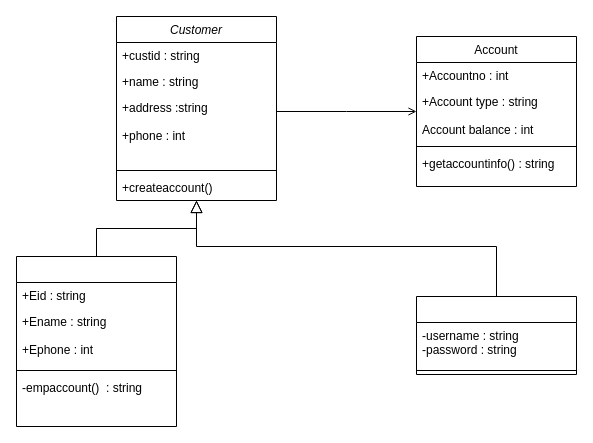
Image size: 593x443. Some labels were removed from this diagram. The box of each missing label's shape, as (x1, y1, x2, y2) in pixels:
Admin: (416, 296, 576, 374)
Employee: (16, 256, 176, 426)
